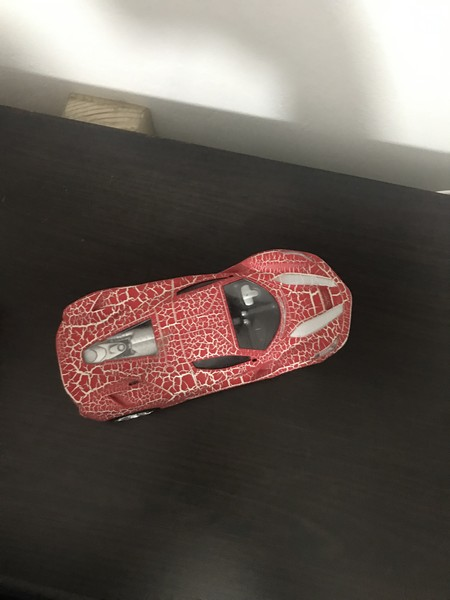RC: (53, 243, 355, 429)
